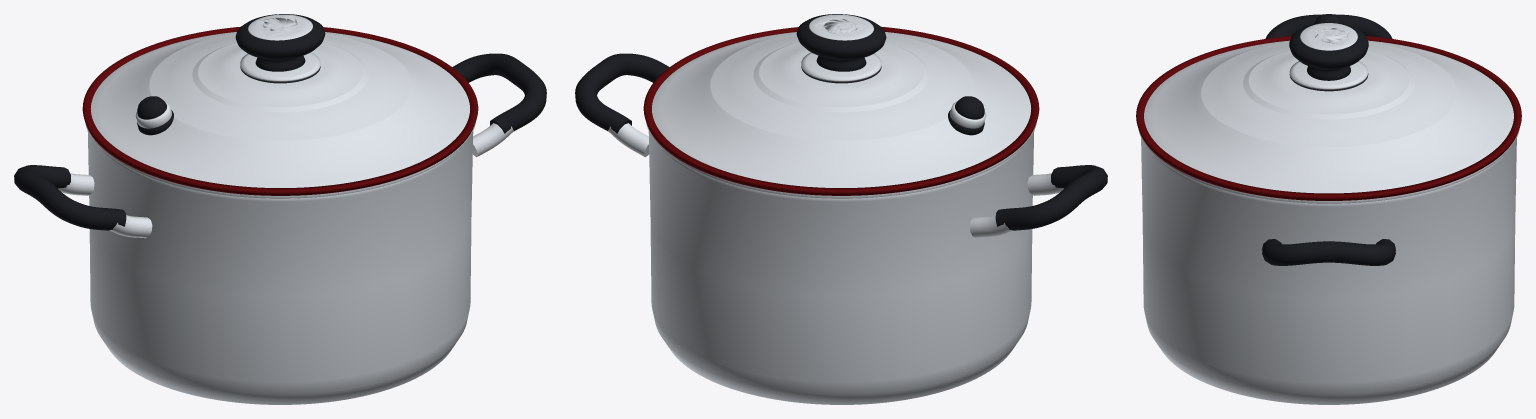
Rendered from olla-6-cuartos.glb.
The picture shows the model from 3 angles, left to right: view 1: azimuth 30°, elevation 25°; view 2: azimuth 150°, elevation 25°; view 3: azimuth 270°, elevation 25°; orthographic projection. The views are drawn at different scales.
Parts seen in each view (by area): view 1: Cuerpo con interior, Tapa de acero con aros, Aro rojo de la tapa, Asa negra -1, Asa negra 1, NOVEL · Pomo cerrado redondeado, NOVEL · Base cromada del pomo, NOVEL · Placa superior del pomo, Soporte metálico.002, Soporte metálico, NOVEL · Emblema original en relieve bajo, Soporte metálico.001 (+1 smaller); view 2: Cuerpo con interior, Tapa de acero con aros, Aro rojo de la tapa, Asa negra -1, Asa negra 1, NOVEL · Pomo cerrado redondeado, NOVEL · Base cromada del pomo, NOVEL · Placa superior del pomo, Soporte metálico.003, Soporte metálico.001, NOVEL · Emblema original en relieve bajo, Soporte metálico (+1 smaller); view 3: Cuerpo con interior, Tapa de acero con aros, Aro rojo de la tapa, Asa negra 1, NOVEL · Pomo cerrado redondeado, Asa negra -1, NOVEL · Base cromada del pomo, NOVEL · Placa superior del pomo, NOVEL · Emblema original en relieve bajo.
Boxes of the visible parts, bbox=[...] form: Cuerpo con interior: bbox=[87, 131, 473, 404]; Tapa de acero con aros: bbox=[85, 32, 475, 198]; Aro rojo de la tapa: bbox=[82, 26, 478, 195]; Asa negra -1: bbox=[14, 165, 126, 230]; Asa negra 1: bbox=[452, 53, 546, 133]; NOVEL · Pomo cerrado redondeado: bbox=[235, 14, 325, 71]; NOVEL · Base cromada del pomo: bbox=[240, 52, 320, 81]; NOVEL · Placa superior del pomo: bbox=[248, 14, 312, 40]; Soporte metálico.002: bbox=[472, 123, 513, 157]; Soporte metálico: bbox=[109, 215, 152, 238]; NOVEL · Emblema original en relieve bajo: bbox=[256, 15, 300, 36]; Soporte metálico.001: bbox=[58, 173, 94, 195]; Cuerpo con interior: bbox=[648, 131, 1034, 404]; Tapa de acero con aros: bbox=[646, 32, 1036, 198]; Aro rojo de la tapa: bbox=[643, 26, 1039, 195]; Asa negra -1: bbox=[995, 165, 1107, 230]; Asa negra 1: bbox=[575, 53, 669, 133]; NOVEL · Pomo cerrado redondeado: bbox=[796, 14, 886, 71]; NOVEL · Base cromada del pomo: bbox=[801, 52, 881, 81]; NOVEL · Placa superior del pomo: bbox=[809, 14, 873, 40]; Soporte metálico.003: bbox=[608, 123, 649, 157]; Soporte metálico.001: bbox=[969, 215, 1012, 238]; NOVEL · Emblema original en relieve bajo: bbox=[813, 16, 869, 36]; Soporte metálico: bbox=[1027, 173, 1063, 195]; Cuerpo con interior: bbox=[1141, 138, 1516, 404]; Tapa de acero con aros: bbox=[1138, 40, 1519, 203]; Aro rojo de la tapa: bbox=[1136, 36, 1521, 200]; Asa negra 1: bbox=[1261, 239, 1396, 265]; NOVEL · Pomo cerrado redondeado: bbox=[1289, 22, 1368, 80]; Asa negra -1: bbox=[1265, 14, 1392, 38]; NOVEL · Base cromada del pomo: bbox=[1289, 61, 1368, 89]; NOVEL · Placa superior del pomo: bbox=[1300, 23, 1357, 50]; NOVEL · Emblema original en relieve bajo: bbox=[1309, 25, 1348, 45].
Size of the model in its own units: 0.3561 by 0.2132 by 0.246.
